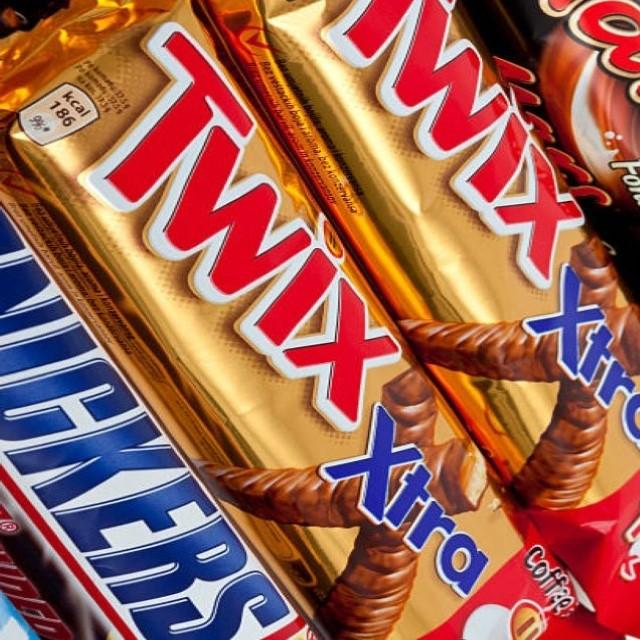snickers_chocolate: (3, 181, 293, 640)
